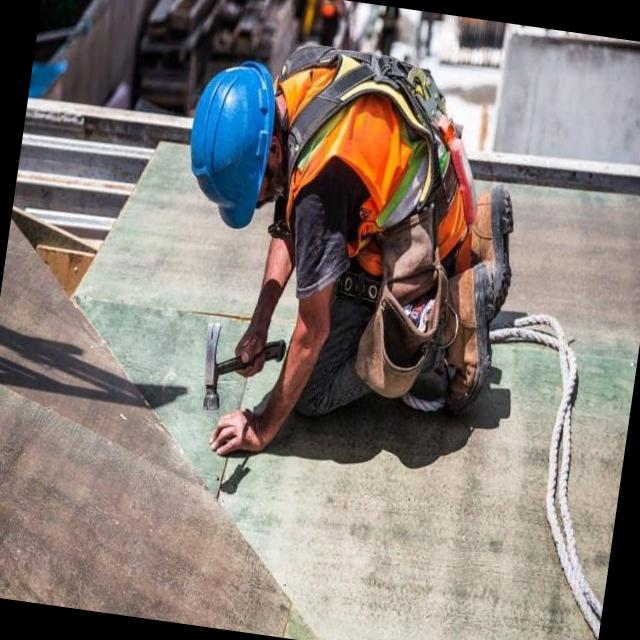Helmet: (178, 41, 286, 238)
Vest: (251, 57, 485, 293)
